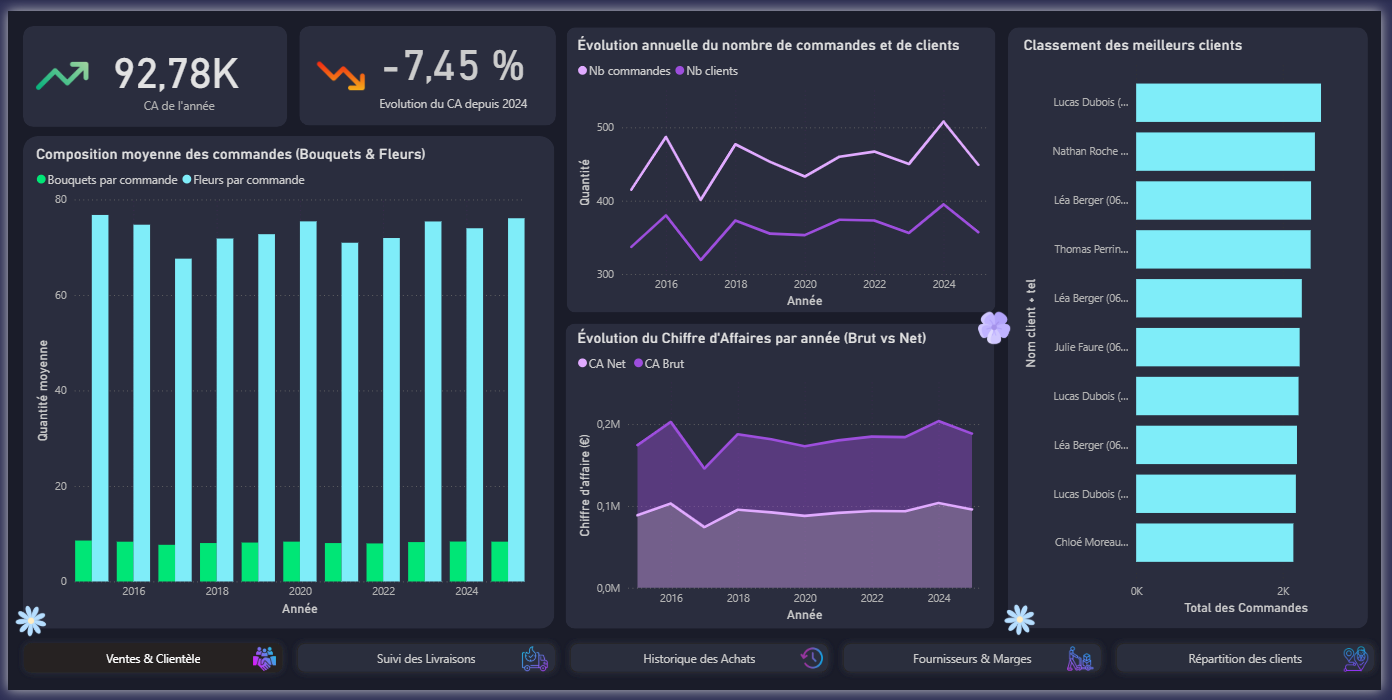

The dashboard page shown, as its layout file describes it:
{"tool":"powerbi","page":{"name":"Ventes & Clientèle","canvas":[1570,777],"ordinal":0},"visuals":[{"type":"shape","box":[332.2,17.2,293.3,113.9],"z":0},{"type":"shape","box":[637.5,357.5,490,348.8],"z":1000},{"type":"shape","box":[638,18,490,326],"z":2000},{"type":"shape","box":[17.5,142.5,607.5,563.1],"z":3000},{"type":"shape","box":[16.7,16.7,302,115.3],"z":4000},{"type":"kpi","fields":{"Indicator":["SAE_COMMANDEBOUQUET.CA Total"],"Goal":["SAE_COMMANDEBOUQUET.CA Annee Precedente"],"TrendLine":["SAE_COMMANDEBOUQUET.DATECOMMANDE.Variation.Hiérarchie de dates.Année"]},"box":[90,16.7,203.3,105],"z":5000},{"type":"textbox","box":[150,94,182,32],"z":6000},{"type":"cardVisual","fields":{"Data":["SAE_COMMANDEBOUQUET.Evolution_CA_2024_2025"]},"box":[406.8,18.5,247.1,112.9],"z":7000},{"type":"image","box":[342.9,28.6,75.7,91.4],"z":8000},{"type":"image","box":[27.5,33.3,70,81.7],"z":9000},{"type":"lineChart","title":"Évolution annuelle du nombre de commandes et de clients","fields":{"Category":["SAE_COMMANDEBOUQUET.DATECOMMANDE.Variation.Hiérarchie de dates.Année","SAE_COMMANDEBOUQUET.DATECOMMANDE.Variation.Hiérarchie de dates.Trimestre","SAE_COMMANDEBOUQUET.DATECOMMANDE.Variation.Hiérarchie de dates.Mois","SAE_COMMANDEBOUQUET.DATECOMMANDE.Variation.Hiérarchie de dates.Jour"],"Y":["CountNonNull(SAE_COMMANDEBOUQUET.DATECOMMANDE)","Count(SAE_COMMANDEBOUQUET.NUMTELCLIENT)"]},"box":[645.7,28.6,481.4,315.7],"z":10000},{"type":"stackedAreaChart","title":"Évolution du Chiffre d''Affaires par année (Brut vs Net)","fields":{"Category":["SAE_COMMANDEBOUQUET.DATECOMMANDE.Variation.Hiérarchie de dates.Année","SAE_COMMANDEBOUQUET.DATECOMMANDE.Variation.Hiérarchie de dates.Trimestre","SAE_COMMANDEBOUQUET.DATECOMMANDE.Variation.Hiérarchie de dates.Mois","SAE_COMMANDEBOUQUET.DATECOMMANDE.Variation.Hiérarchie de dates.Jour"],"Y":["SAE_COMMANDEBOUQUET.Montant Net Total","Sum(SAE_COMMANDEBOUQUET.MONTANTCOMMANDE)"]},"box":[645.7,362.9,474.3,340],"z":11000},{"type":"clusteredColumnChart","title":"Composition moyenne des commandes (Bouquets & Fleurs)","fields":{"Category":["SAE_COMMANDEBOUQUET.DATECOMMANDE.Variation.Hiérarchie de dates.Année","SAE_COMMANDEBOUQUET.DATECOMMANDE.Variation.Hiérarchie de dates.Trimestre","SAE_COMMANDEBOUQUET.DATECOMMANDE.Variation.Hiérarchie de dates.Mois","SAE_COMMANDEBOUQUET.DATECOMMANDE.Variation.Hiérarchie de dates.Jour"],"Y":["SAE_BOUQUET.Moy_Bouquets_Par_Cmd","SAE_COMPOSITION.Moy_Fleurs_Par_Cmd"]},"box":[27.1,152.9,568.6,542.9],"z":12000},{"type":"shape","box":[1142.9,18.6,411.4,687.1],"z":13000},{"type":"barChart","title":"Classement des meilleurs clients","fields":{"Category":["SAE_CLIENT.ClientUnique"],"Y":["Sum(SAE_COMMANDEBOUQUET.MONTANTCOMMANDE)"]},"box":[1155.7,28.6,397.1,667.1],"z":14000},{"type":"pageNavigator","box":[10,715,1560,50],"z":15000},{"type":"image","box":[267.5,720.8,51.7,38.3],"z":16000},{"type":"image","box":[565.5,713.6,72.7,51.8],"z":17000},{"type":"image","box":[899.2,721.7,40,35.8],"z":18000},{"type":"image","box":[1200,720,50.8,40],"z":19000},{"type":"image","box":[1518.3,720.8,44.2,38.3],"z":20000},{"type":"image","box":[1101.4,338.6,51.4,47.1],"z":21000},{"type":"image","box":[0,672.9,52.9,48.6],"z":22000},{"type":"image","box":[1130,671.4,52.9,48.6],"z":23000}]}

Visuals, with their boxes on the page's 1570x777 design canvas (x1, y1, x2, y2). These are canvas units, not pixel positions in the 1392x700 screenshot, which may show the page scaled, cropped or inside an application window:
shape: {"x1": 332, "y1": 17, "x2": 626, "y2": 131}
shape: {"x1": 638, "y1": 358, "x2": 1128, "y2": 706}
shape: {"x1": 638, "y1": 18, "x2": 1128, "y2": 344}
shape: {"x1": 18, "y1": 142, "x2": 625, "y2": 706}
shape: {"x1": 17, "y1": 17, "x2": 319, "y2": 132}
kpi - SAE_COMMANDEBOUQUET.CA Total x SAE_COMMANDEBOUQUET.CA Annee Precedente: {"x1": 90, "y1": 17, "x2": 293, "y2": 122}
textbox: {"x1": 150, "y1": 94, "x2": 332, "y2": 126}
cardVisual - SAE_COMMANDEBOUQUET.Evolution_CA_2024_2025: {"x1": 407, "y1": 18, "x2": 654, "y2": 131}
image: {"x1": 343, "y1": 29, "x2": 419, "y2": 120}
image: {"x1": 28, "y1": 33, "x2": 98, "y2": 115}
"Évolution annuelle du nombre de commandes et de clients" lineChart: {"x1": 646, "y1": 29, "x2": 1127, "y2": 344}
"Évolution du Chiffre d''Affaires par année (Brut vs Net)" stackedAreaChart: {"x1": 646, "y1": 363, "x2": 1120, "y2": 703}
"Composition moyenne des commandes (Bouquets & Fleurs)" clusteredColumnChart: {"x1": 27, "y1": 153, "x2": 596, "y2": 696}
shape: {"x1": 1143, "y1": 19, "x2": 1554, "y2": 706}
"Classement des meilleurs clients" barChart: {"x1": 1156, "y1": 29, "x2": 1553, "y2": 696}
pageNavigator: {"x1": 10, "y1": 715, "x2": 1570, "y2": 765}
image: {"x1": 268, "y1": 721, "x2": 319, "y2": 759}
image: {"x1": 566, "y1": 714, "x2": 638, "y2": 765}
image: {"x1": 899, "y1": 722, "x2": 939, "y2": 758}
image: {"x1": 1200, "y1": 720, "x2": 1251, "y2": 760}
image: {"x1": 1518, "y1": 721, "x2": 1562, "y2": 759}
image: {"x1": 1101, "y1": 339, "x2": 1153, "y2": 386}
image: {"x1": 0, "y1": 673, "x2": 53, "y2": 722}
image: {"x1": 1130, "y1": 671, "x2": 1183, "y2": 720}
